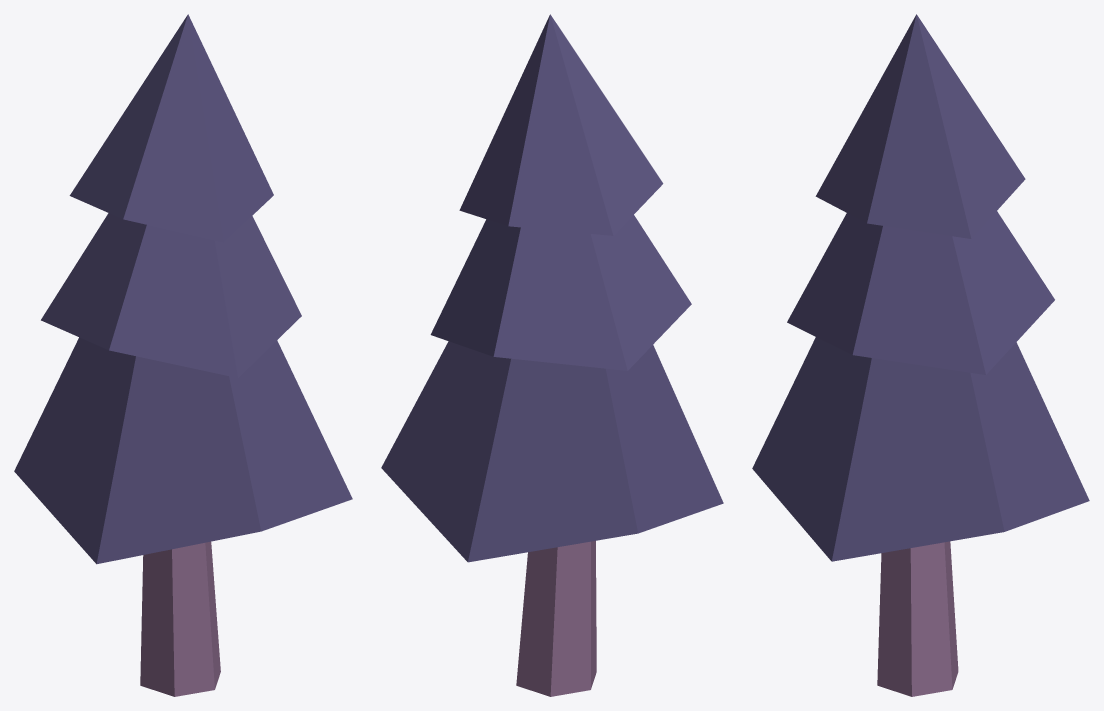
The model's file is PineTree4.fbx.
3 renders of one model, left to right at view 1: azimuth 30°, elevation 25°; view 2: azimuth 150°, elevation 25°; view 3: azimuth 270°, elevation 25°, orthographic.
Parts seen in each view (by area): view 1: pasted__pasted__pasted__pCylinder2, pasted__pasted__pCylinder3, pasted__pasted__pasted__pCylinder3, pasted__pasted__pasted__pCylinder1; view 2: pasted__pasted__pasted__pCylinder2, pasted__pasted__pCylinder3, pasted__pasted__pasted__pCylinder3, pasted__pasted__pasted__pCylinder1; view 3: pasted__pasted__pasted__pCylinder2, pasted__pasted__pCylinder3, pasted__pasted__pasted__pCylinder3, pasted__pasted__pasted__pCylinder1.
Boxes of the visible parts, <box> form: pasted__pasted__pasted__pCylinder2: <box>14,337,352,564</box>; pasted__pasted__pCylinder3: <box>41,213,301,377</box>; pasted__pasted__pasted__pCylinder3: <box>69,14,273,242</box>; pasted__pasted__pasted__pCylinder1: <box>140,541,220,696</box>; pasted__pasted__pasted__pCylinder2: <box>381,341,723,562</box>; pasted__pasted__pCylinder3: <box>430,215,691,370</box>; pasted__pasted__pasted__pCylinder3: <box>459,14,663,235</box>; pasted__pasted__pasted__pCylinder1: <box>516,541,596,696</box>; pasted__pasted__pasted__pCylinder2: <box>752,337,1089,561</box>; pasted__pasted__pCylinder3: <box>787,211,1054,374</box>; pasted__pasted__pasted__pCylinder3: <box>815,14,1025,238</box>; pasted__pasted__pasted__pCylinder1: <box>877,541,958,696</box>.
Bounding box in the file's own units: 3.19 × 7.83 × 3.59.
